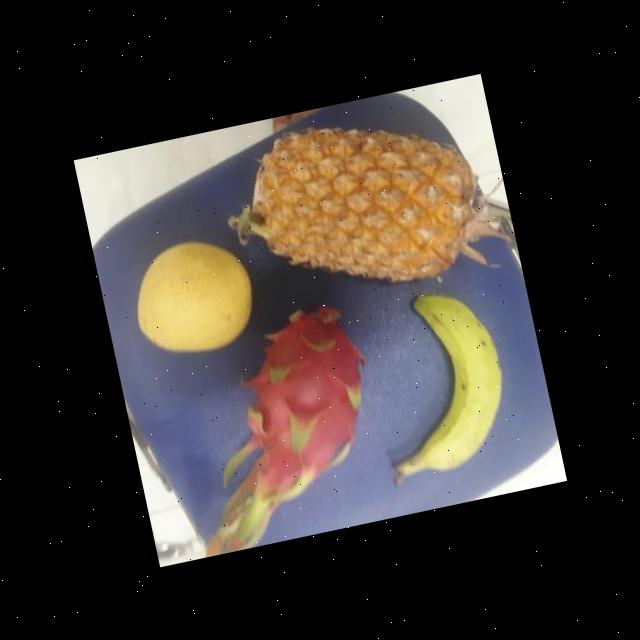banana: (367, 283, 522, 479)
pear: (122, 230, 264, 364)
pineapple: (235, 83, 492, 311)
pitaya: (208, 294, 400, 514)
